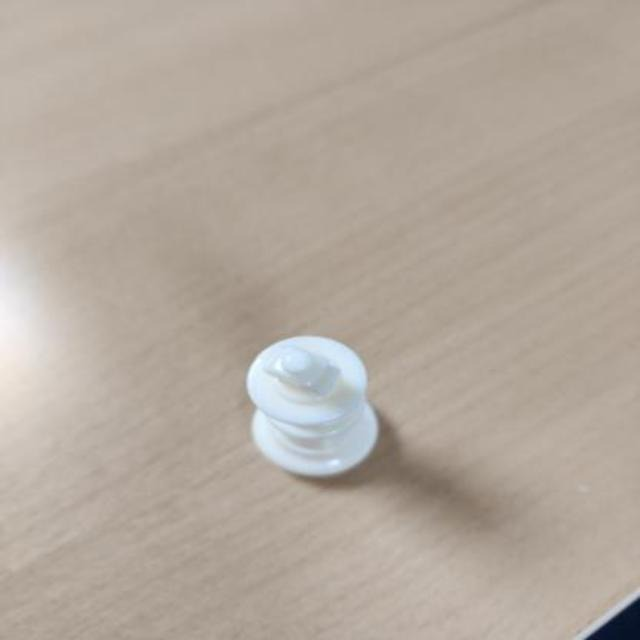white-king: (247, 335, 382, 479)
